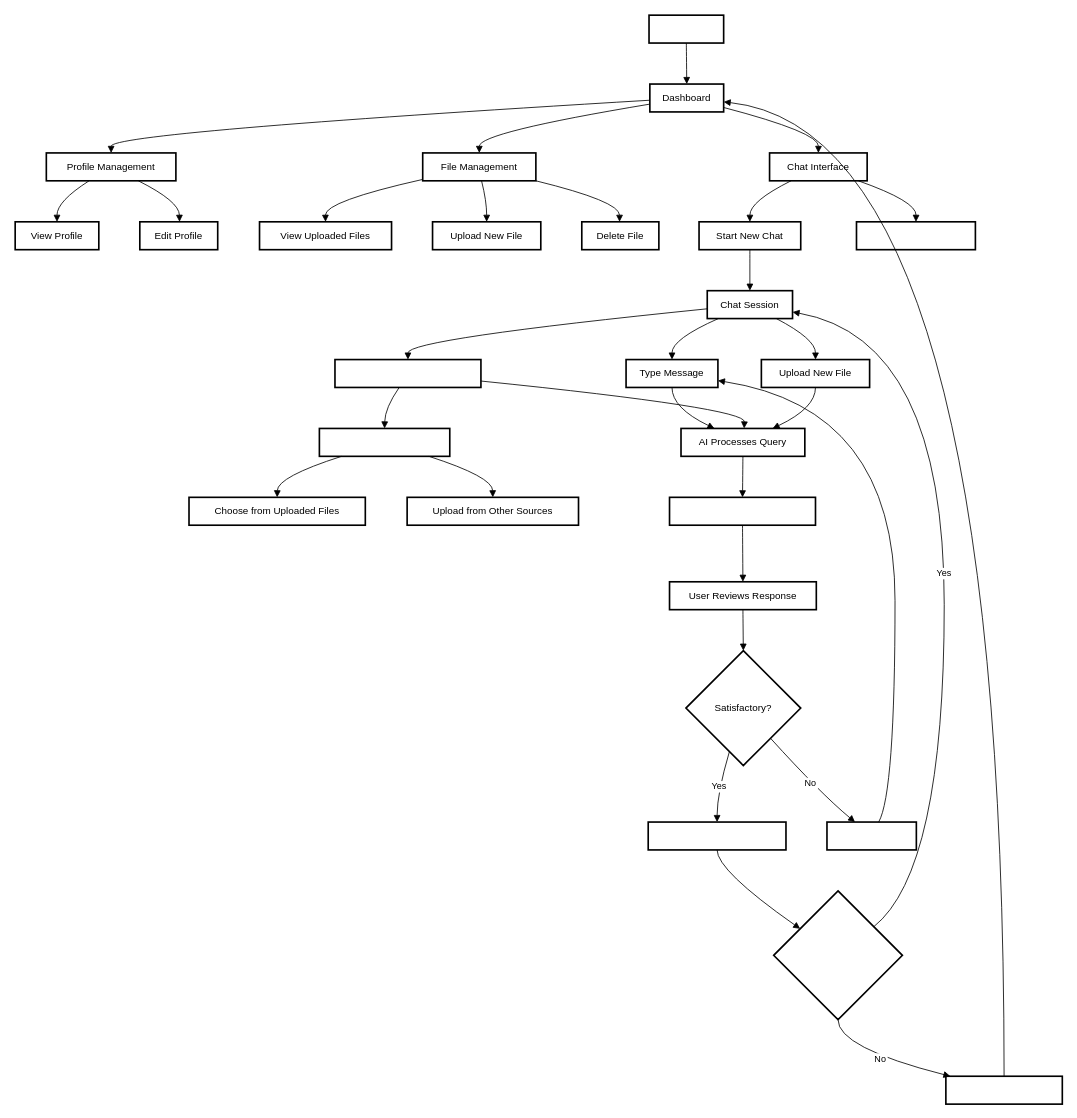
The diagram is 1077 pixels wide and 1118 high, and some of its shapes have lost their labels. The shapes that lost their labels are listed below. From the top down, each one's centre as x and y in pixels, then its label:
(686,28): Login Page
(915,235): View Chat History
(407,373): Select File for Context
(384,442): File Selection Modal
(742,511): AI Generates Response
(716,835): End Chat or Continue
(871,835): Refine Query
(837,955): Continue Chat?
(1004,1090): Save Chat History
